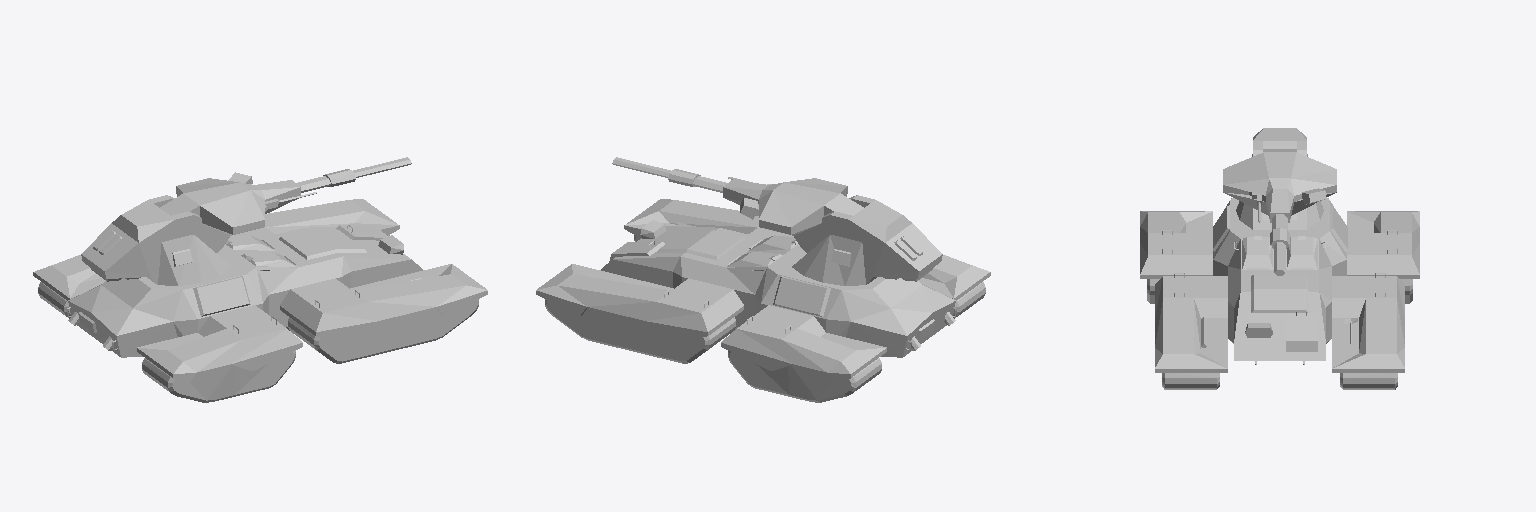
File: arvore.obj
3 renders of one model, left to right at view 1: azimuth 30°, elevation 25°; view 2: azimuth 150°, elevation 25°; view 3: azimuth 270°, elevation 25°, orthographic.
Visible parts, largest first — view 1: Material2, Mesh18, Mesh17, Mesh29, Mesh27, Mesh3, _Charcoal_, Mesh2, Mesh15, Mesh23, Mesh22, Mesh13 (+2 smaller); view 2: Material2, Mesh18, Mesh30, Mesh26, _Charcoal_, Mesh14, Mesh23, Mesh21, Mesh15, _0135_DarkGray_, Mesh13, Mesh17 (+1 smaller); view 3: Material2, _Charcoal_, Mesh23, Mesh13, Mesh18, Mesh14, Mesh17, _0135_DarkGray_, Mesh20, Mesh2, Mesh15, Material1 (+1 smaller).
Boxes of the visible parts, x1,y1,x2,y2 form: Material2: [33, 178, 486, 386]; Mesh18: [68, 244, 262, 336]; Mesh17: [316, 264, 487, 339]; Mesh29: [319, 301, 477, 361]; Mesh27: [172, 352, 293, 400]; Mesh3: [105, 199, 201, 278]; _Charcoal_: [38, 235, 478, 402]; Mesh2: [200, 190, 264, 234]; Mesh15: [137, 329, 241, 377]; Mesh23: [279, 230, 366, 259]; Mesh22: [193, 276, 250, 316]; Mesh13: [267, 199, 396, 235]; Material2: [536, 180, 956, 386]; Mesh18: [755, 244, 955, 357]; Mesh30: [546, 301, 704, 361]; Mesh26: [730, 352, 851, 400]; _Charcoal_: [545, 222, 985, 402]; Mesh14: [737, 305, 853, 349]; Mesh23: [657, 230, 744, 259]; Mesh21: [773, 276, 830, 316]; Mesh15: [934, 255, 990, 300]; _0135_DarkGray_: [740, 198, 797, 261]; Mesh13: [537, 264, 670, 290]; Mesh17: [624, 211, 756, 237]; Material2: [1140, 128, 1419, 372]; _Charcoal_: [1147, 270, 1412, 389]; Mesh23: [1251, 274, 1308, 312]; Mesh13: [1332, 299, 1404, 372]; Mesh18: [1213, 198, 1346, 275]; Mesh14: [1347, 213, 1411, 254]; Mesh17: [1155, 277, 1227, 368]; _0135_DarkGray_: [1242, 188, 1326, 269]; Mesh20: [1286, 314, 1317, 351]; Mesh2: [1223, 153, 1268, 184]; Mesh15: [1142, 211, 1204, 232]; Material1: [1194, 298, 1227, 317].
Bounding box in the file's own units: 9.26 × 3.77 × 6.61.